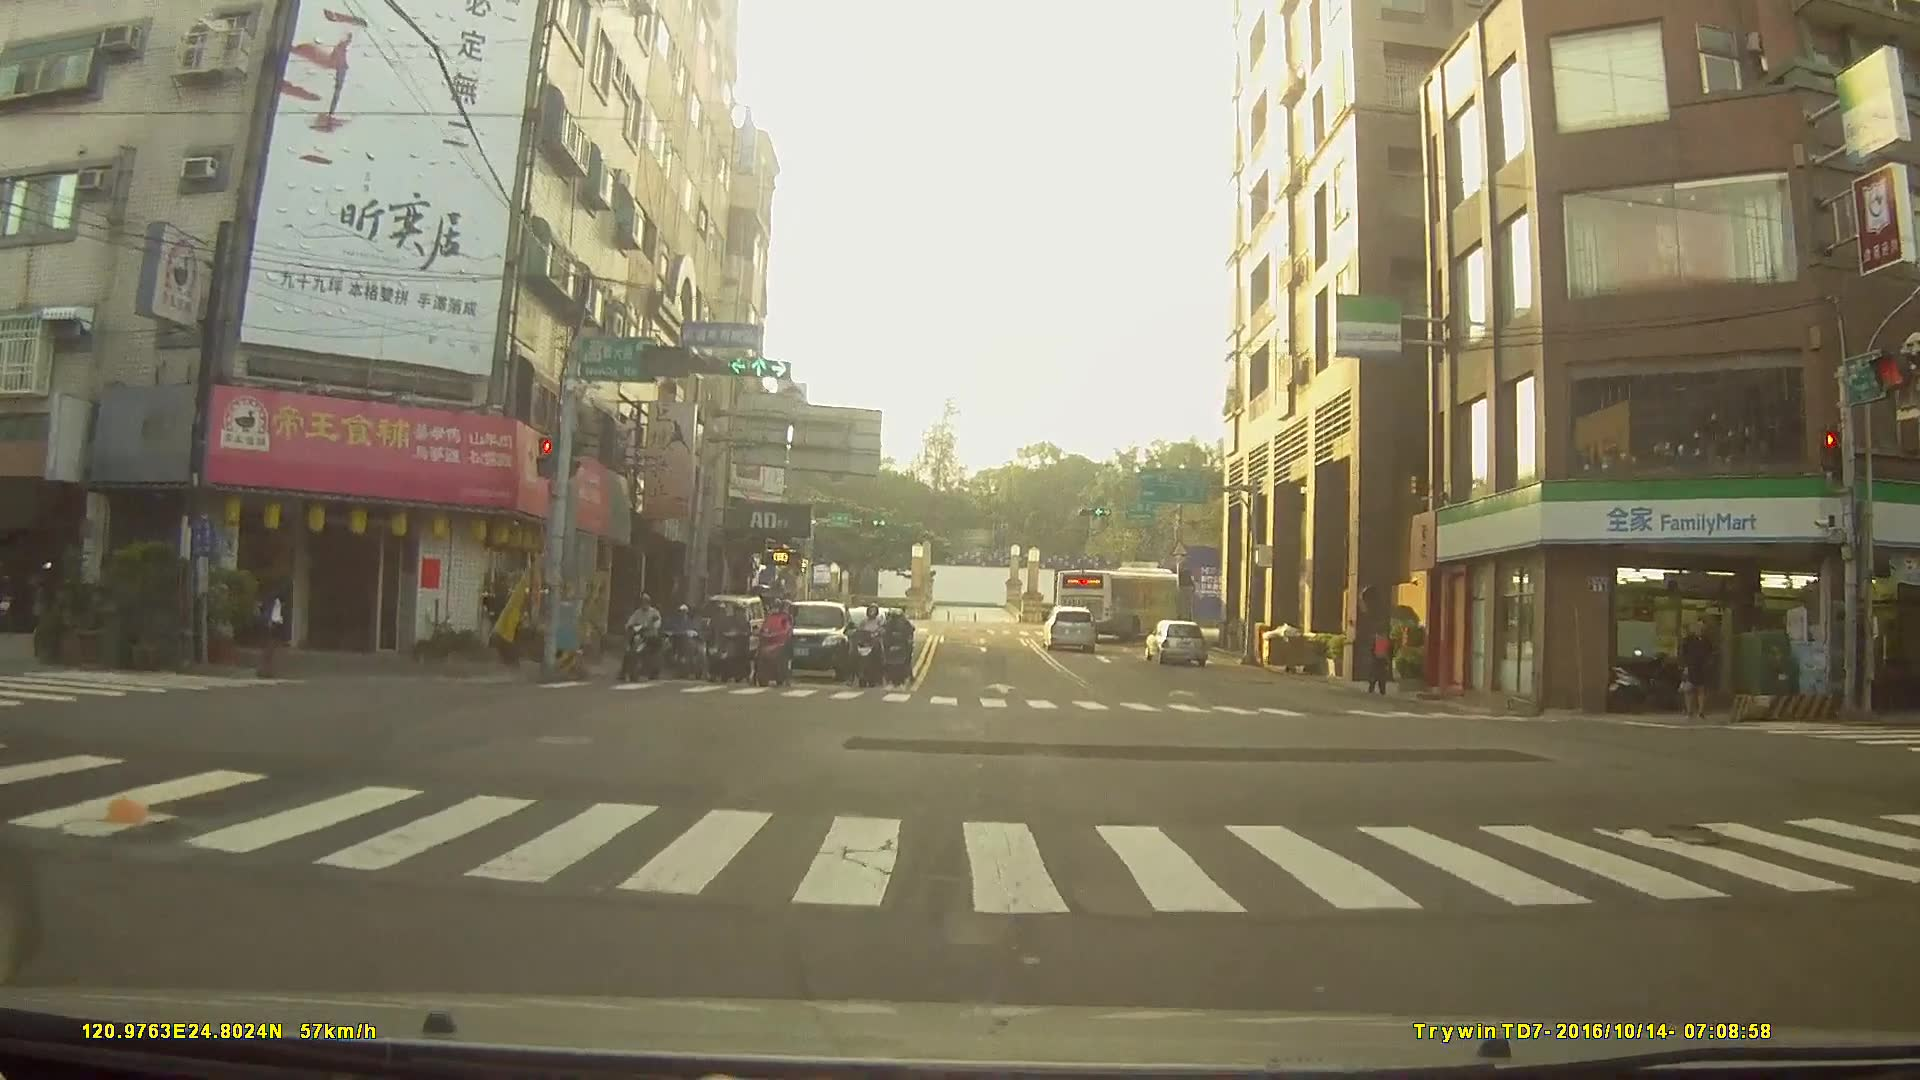pedestrian: (1678, 617, 1717, 725), (255, 584, 296, 682), (1366, 626, 1397, 697)
rider: (751, 593, 797, 690), (625, 596, 666, 690), (854, 601, 891, 686), (881, 606, 919, 687), (714, 601, 750, 681), (667, 600, 704, 675)
vehicle: (1052, 566, 1196, 638), (765, 599, 855, 677), (1141, 616, 1209, 663), (1042, 605, 1099, 653)
